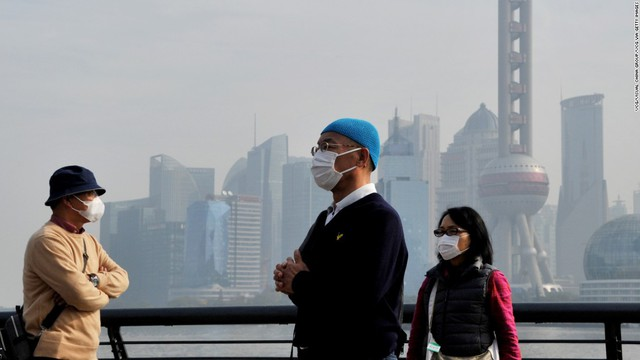mask: (304, 153, 339, 186), (431, 238, 461, 262), (87, 200, 114, 226)
